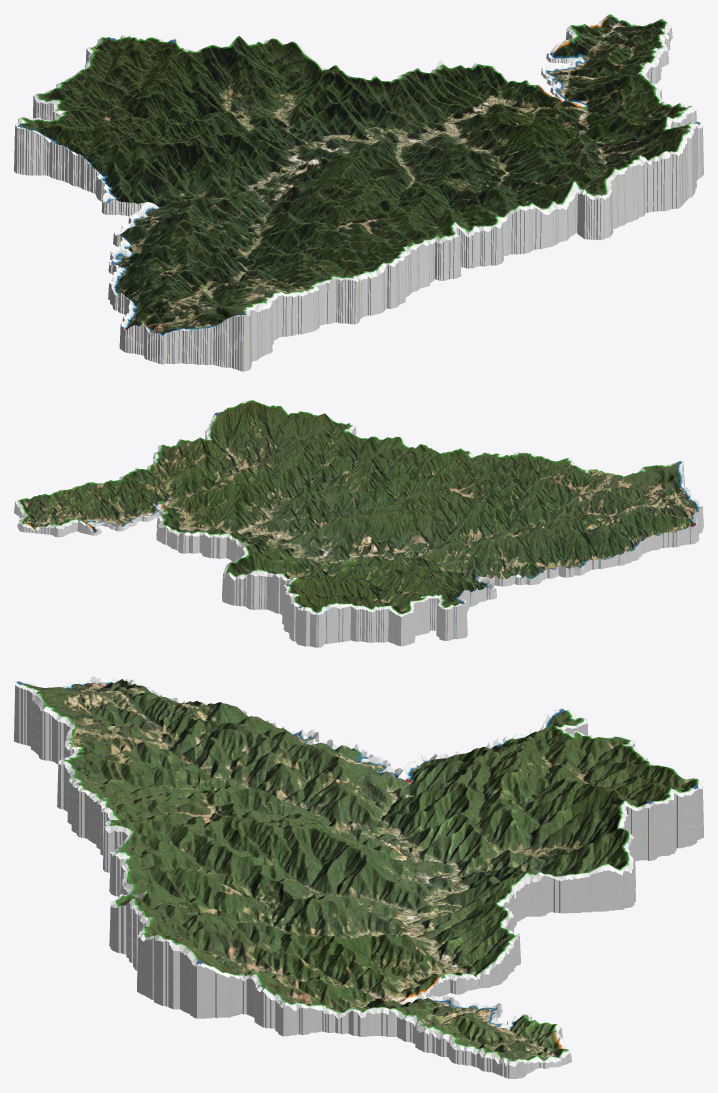
The picture shows the model from 3 angles, top to bottom: view 1: azimuth 30°, elevation 25°; view 2: azimuth 150°, elevation 25°; view 3: azimuth 270°, elevation 25°; orthographic projection. The views are drawn at different scales.
Bounding box in the file's own units: 0.9999 × 0.0819 × 0.7752.
Materials: 1 (1 with a texture image).
